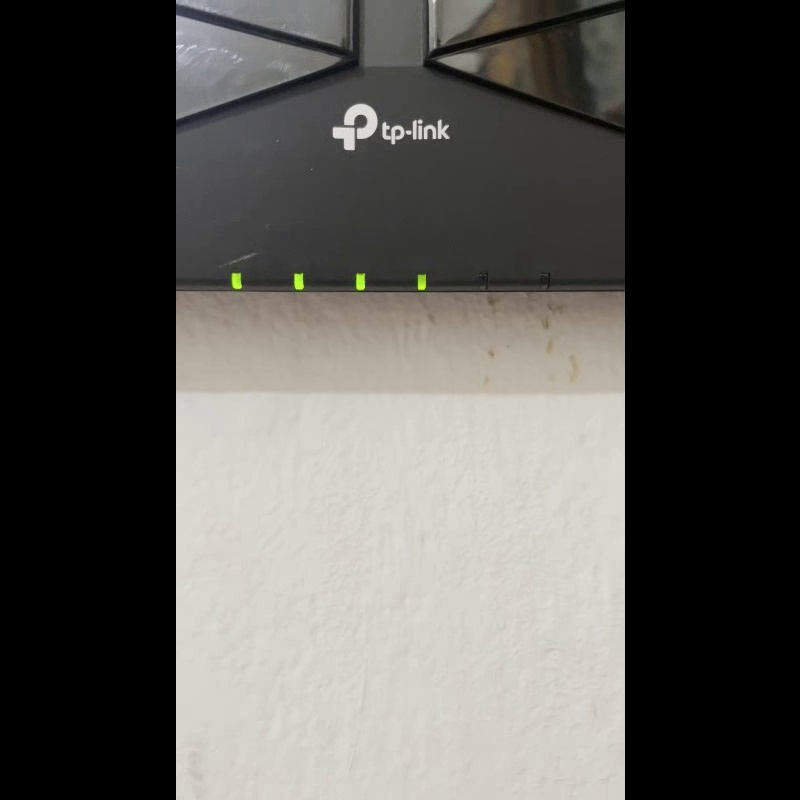off: (538, 272, 550, 288), (477, 272, 486, 289)
on_green: (231, 271, 242, 289), (292, 272, 303, 290), (355, 272, 365, 291), (417, 273, 426, 290)
